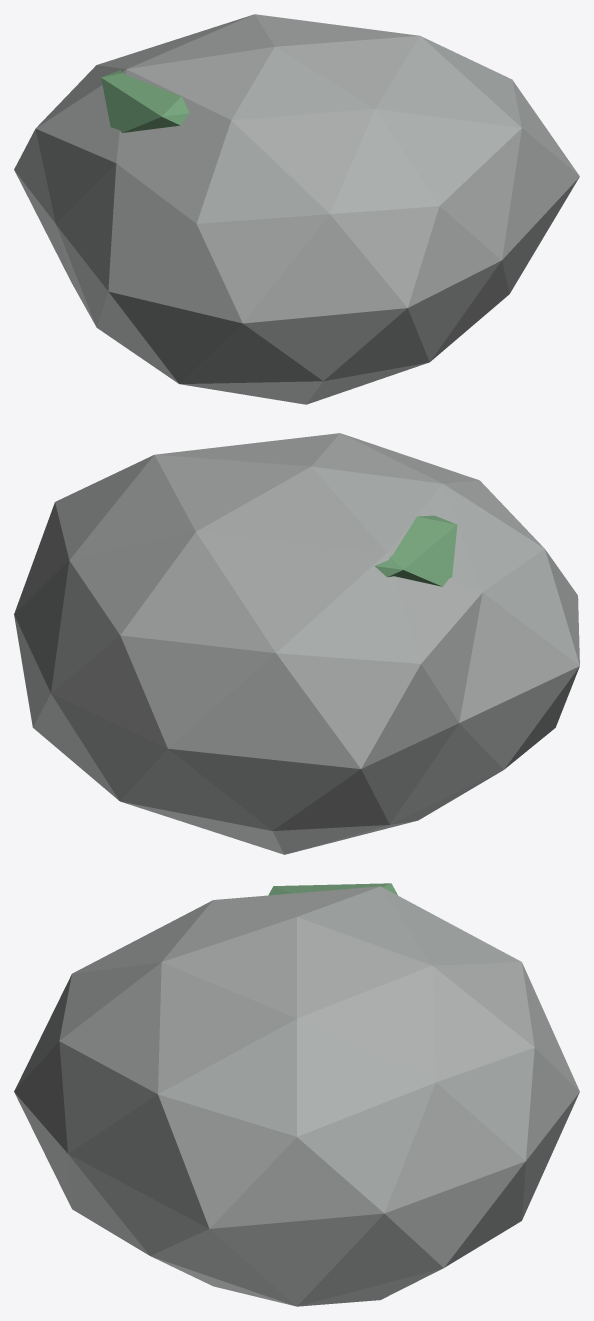
File: myb_forest_rock_mossy_b.fbx
The picture shows the model from 3 angles, top to bottom: view 1: azimuth 30°, elevation 25°; view 2: azimuth 150°, elevation 25°; view 3: azimuth 270°, elevation 25°; orthographic projection. The views are drawn at different scales.
Visible parts, largest first — view 1: myb_forest_rock_mossy_b; view 2: myb_forest_rock_mossy_b; view 3: myb_forest_rock_mossy_b.
Part boxes in pixels (<box>): myb_forest_rock_mossy_b: <box>14,14,579,404</box>; myb_forest_rock_mossy_b: <box>14,433,579,854</box>; myb_forest_rock_mossy_b: <box>14,883,579,1306</box>.
Bounding box in the file's own units: 1.5 × 1 × 1.47.
